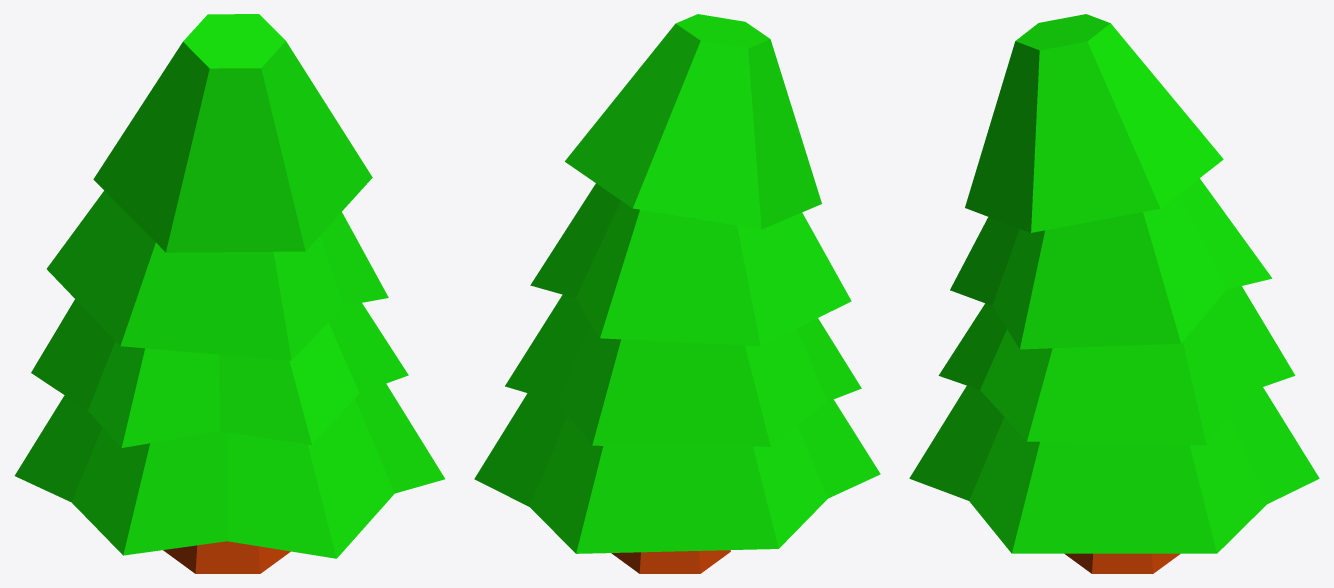
File: Choinka5pozv3.fbx
3 views of the same model, side by side, from view 1: azimuth 30°, elevation 25°; view 2: azimuth 150°, elevation 25°; view 3: azimuth 270°, elevation 25° (orthographic). The views are drawn at different scales.
Visible parts, largest first — view 1: Walec.005, Walec.001, Walec.003, Walec.002, Walec; view 2: Walec.001, Walec.005, Walec.003, Walec.002, Walec; view 3: Walec.001, Walec.005, Walec.003, Walec.002, Walec.
Boxes of the visible parts, x1,y1,x2,y2 form: Walec.005: (93, 14, 372, 252); Walec.001: (14, 384, 444, 558); Walec.003: (47, 190, 388, 360); Walec.002: (31, 299, 408, 447); Walec: (163, 541, 290, 573); Walec.001: (474, 393, 880, 553); Walec.005: (565, 14, 821, 229); Walec.003: (530, 183, 851, 346); Walec.002: (505, 295, 861, 446); Walec: (611, 550, 730, 573); Walec.001: (909, 385, 1319, 553); Walec.005: (965, 14, 1223, 232); Walec.003: (950, 178, 1272, 349); Walec.002: (938, 286, 1295, 445); Walec: (1064, 553, 1180, 573).
Bounding box in the file's own units: 304 × 491 × 354.
